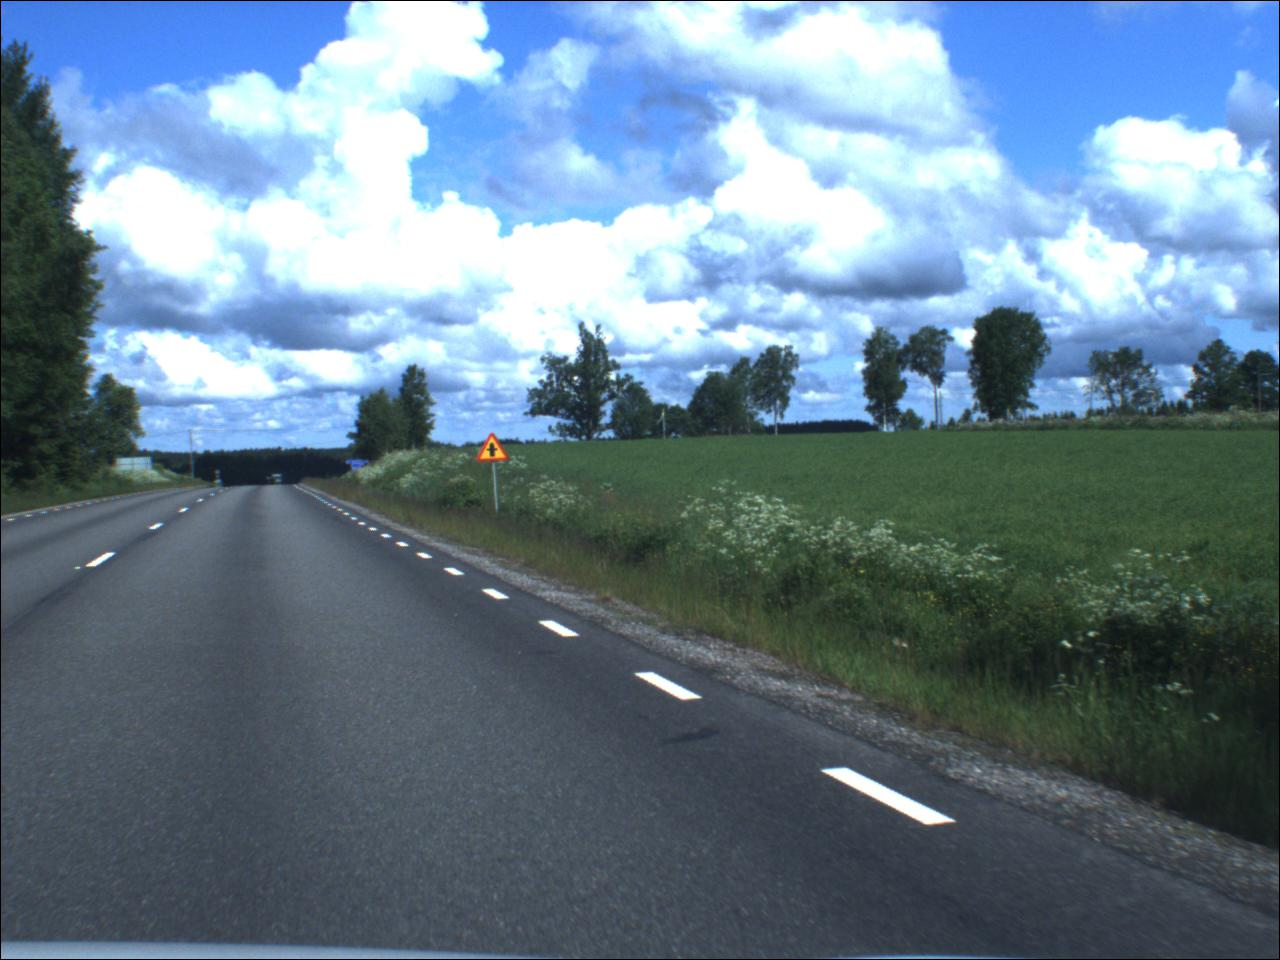WARNING_CROSSING_ROAD: (479, 436, 512, 465)
